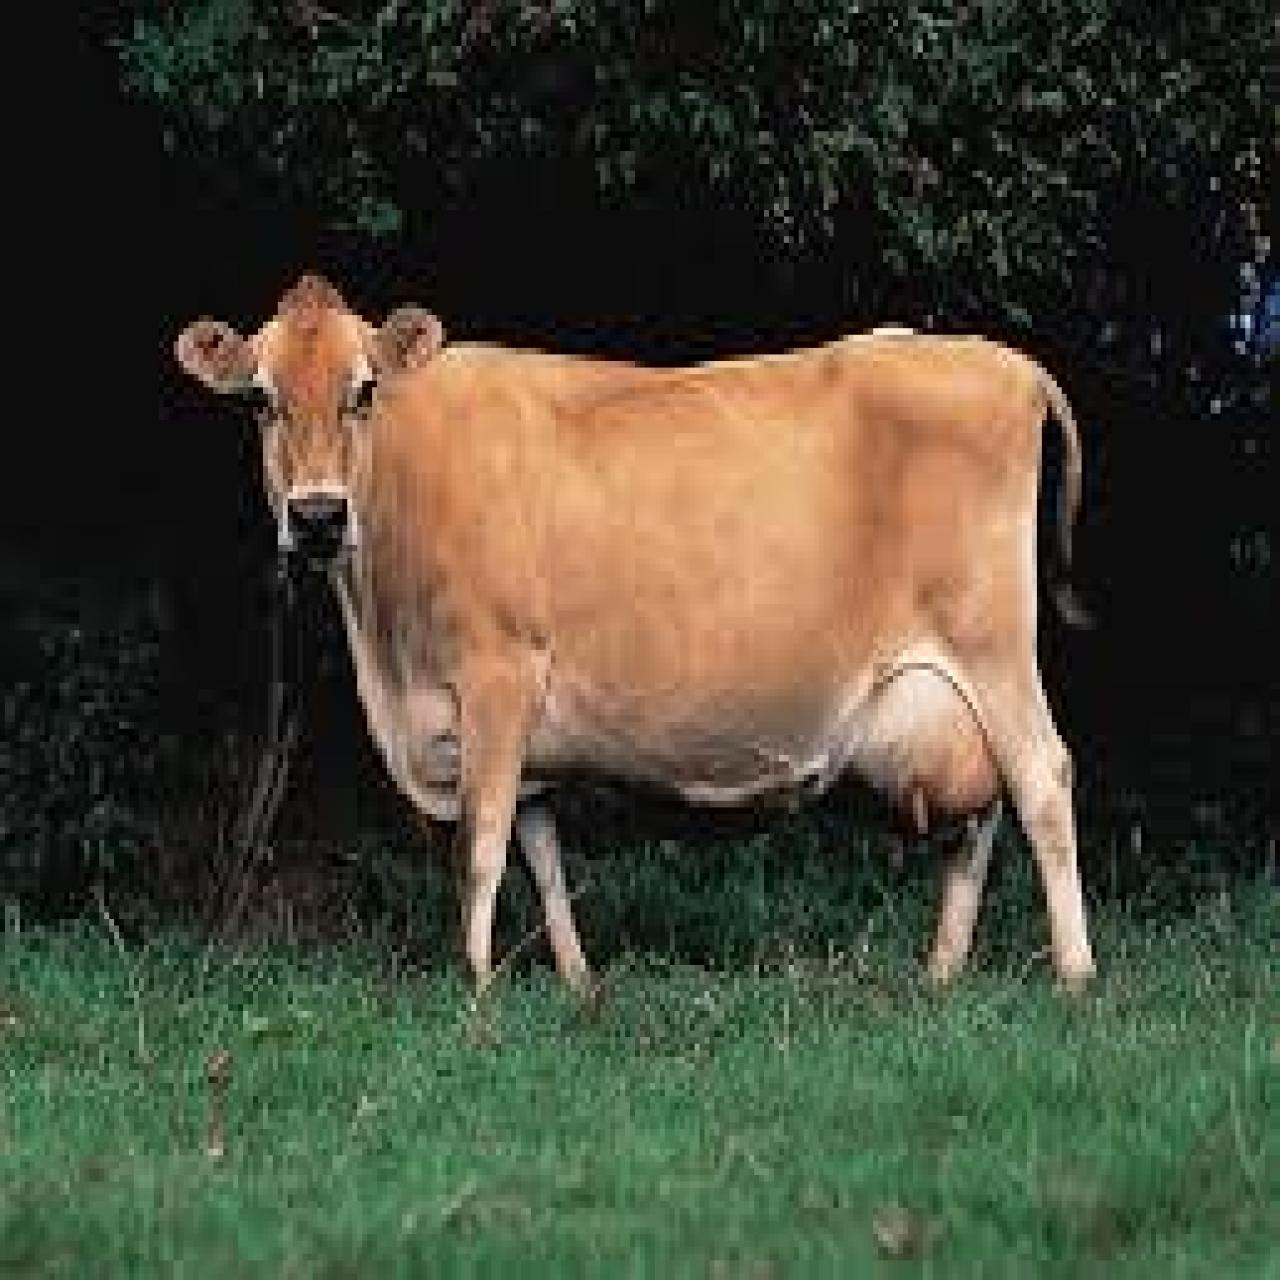cow: (178, 286, 1096, 1008)
